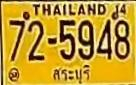2: (28, 20, 44, 60)
4: (96, 19, 111, 59)
5: (59, 19, 75, 59)
7: (8, 20, 24, 60)
8: (114, 20, 129, 58)
9: (77, 19, 93, 59)
SRI: (51, 62, 93, 84)
